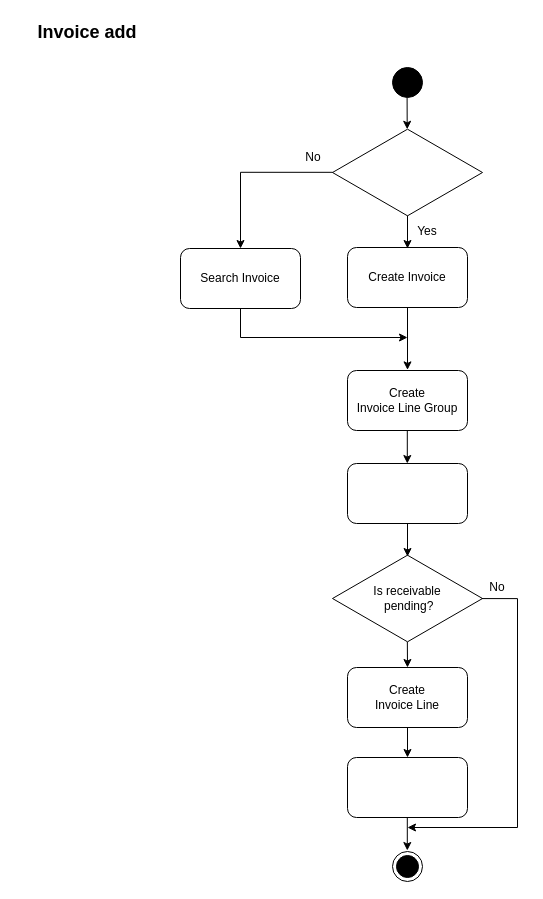
This 543x899 diagram has some shape labels left out. Each missing label, with the centre of its shape:
"Is new Invoice?" belongs at (x=407, y=172).
"Search Receivable" belongs at (x=407, y=493).
"Update Receivable" belongs at (x=407, y=787).
